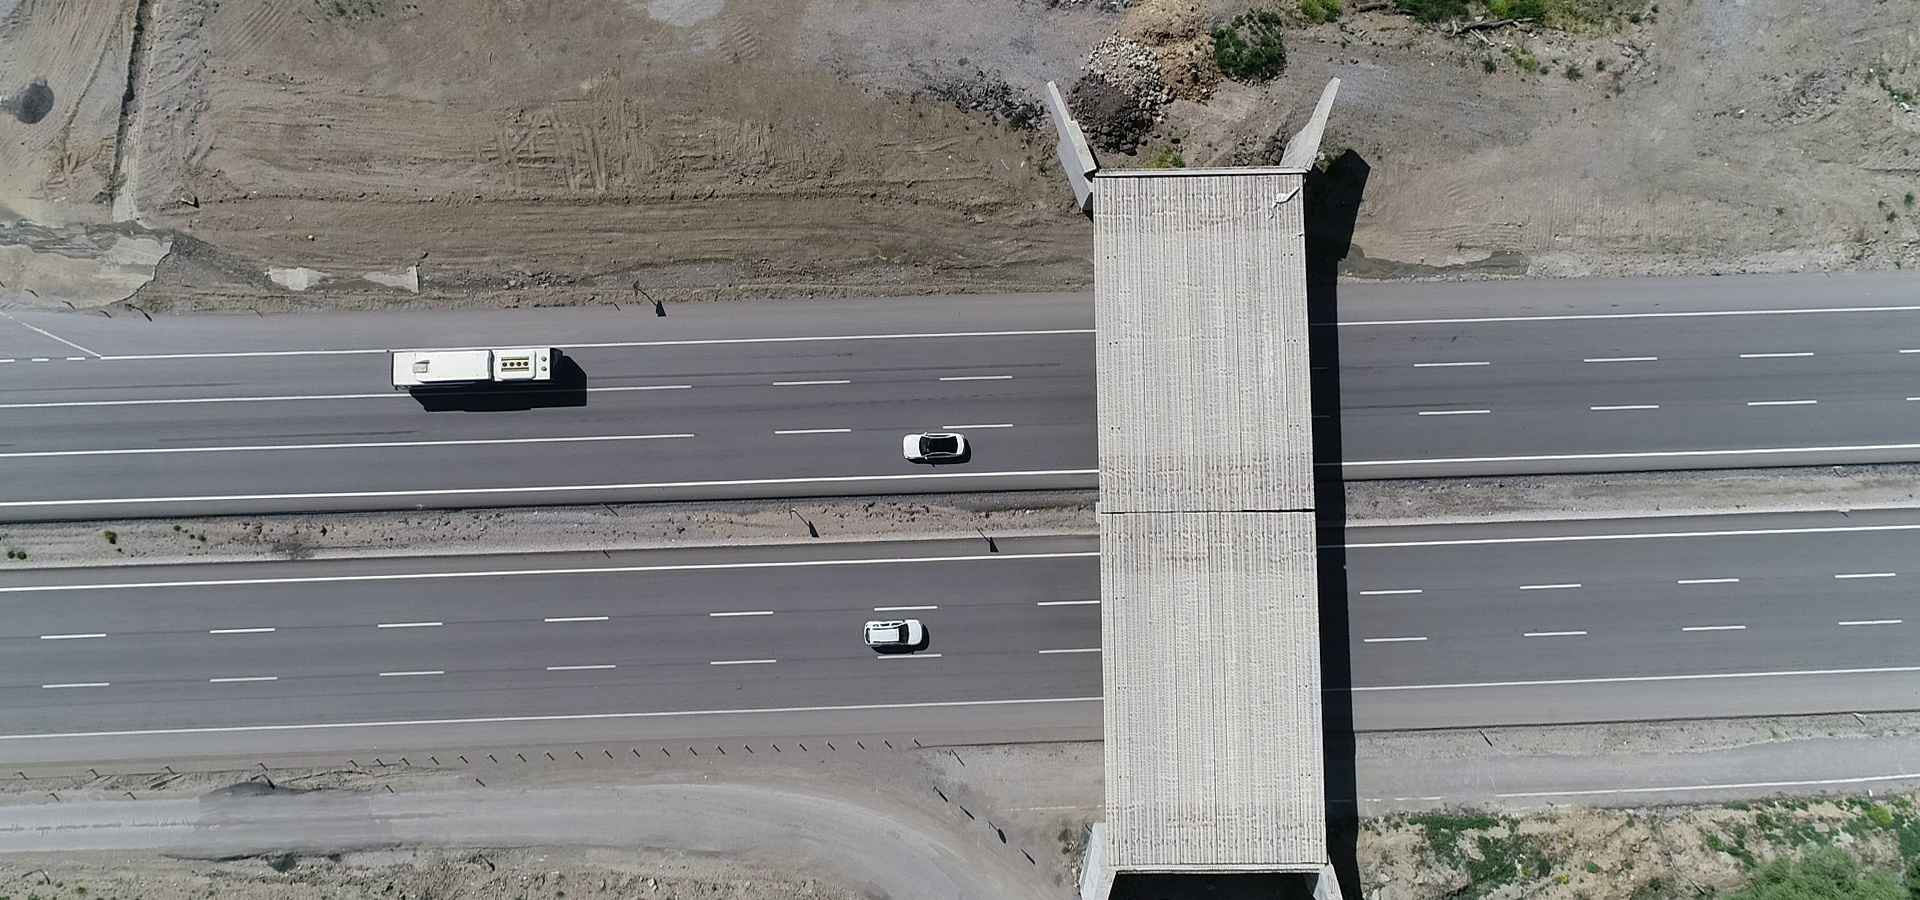araba: (857, 612, 933, 656), (891, 429, 973, 467)
otobus: (383, 333, 567, 399)
